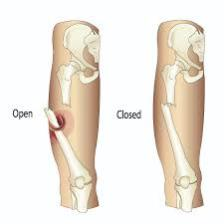open-compound-fracture: (42, 20, 103, 215)
